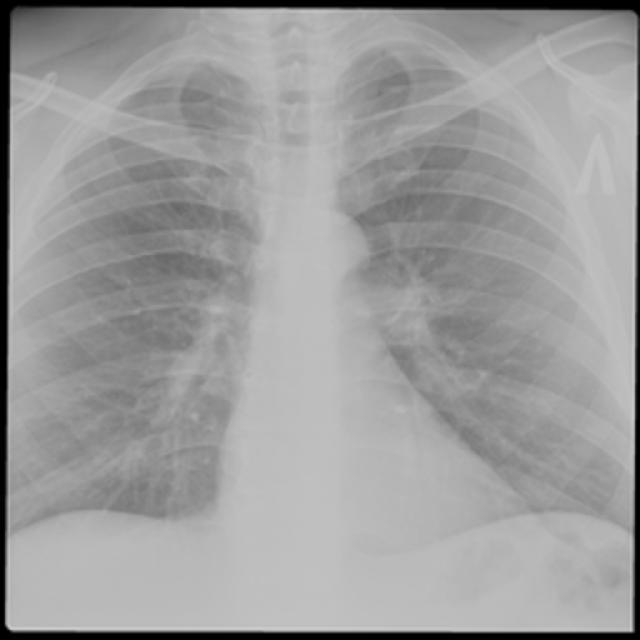abnormalities: (397, 276, 501, 426), (140, 286, 227, 444)
diaphragm: (10, 509, 632, 631)
heart: (215, 206, 545, 584)
left_lobe: (328, 29, 632, 534)
right_lobe: (10, 48, 267, 542)
